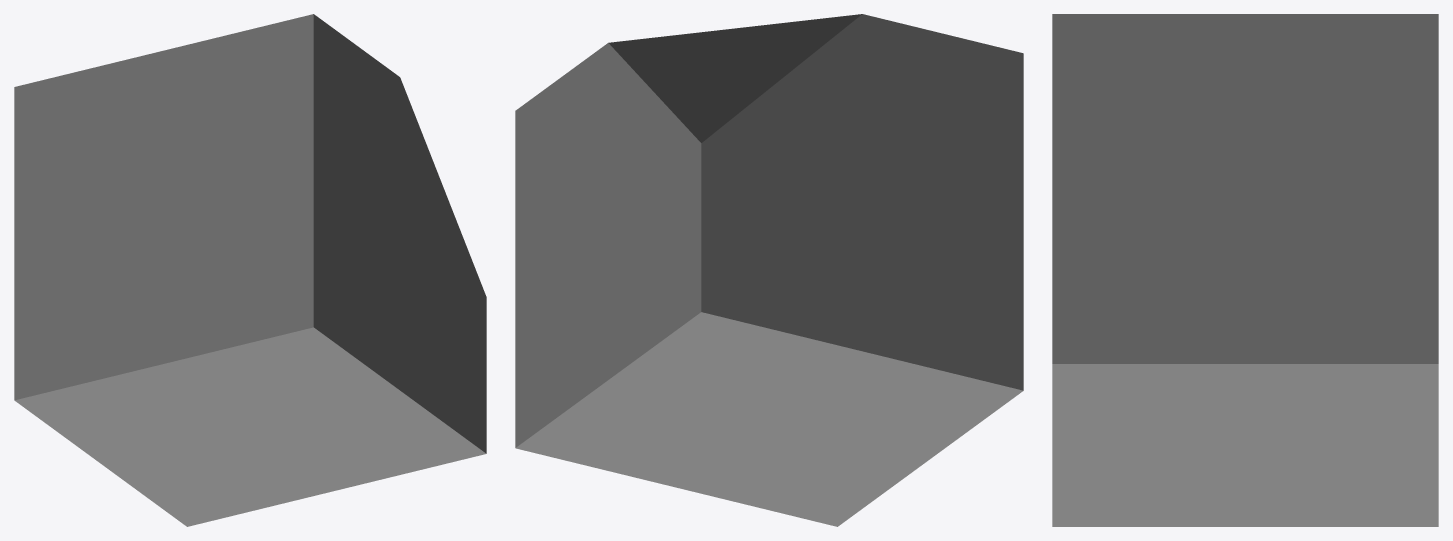
The model's file is r6c6_border_grey.gltf.
The picture shows the model from 3 angles, left to right: view 1: azimuth 30°, elevation 25°; view 2: azimuth 150°, elevation 25°; view 3: azimuth 270°, elevation 25°; orthographic projection. The views are drawn at different scales.
Parts seen in each view (by area): view 1: r6c6_border_grey; view 2: r6c6_border_grey; view 3: r6c6_border_grey.
Boxes of the visible parts, x1,y1,x2,y2 form: r6c6_border_grey: [14, 14, 486, 526]; r6c6_border_grey: [515, 14, 1023, 526]; r6c6_border_grey: [1052, 14, 1438, 526].
Size of the model in its own units: 2.1 by 2.1 by 2.1.
Materials: 1 (1 with a texture image).
